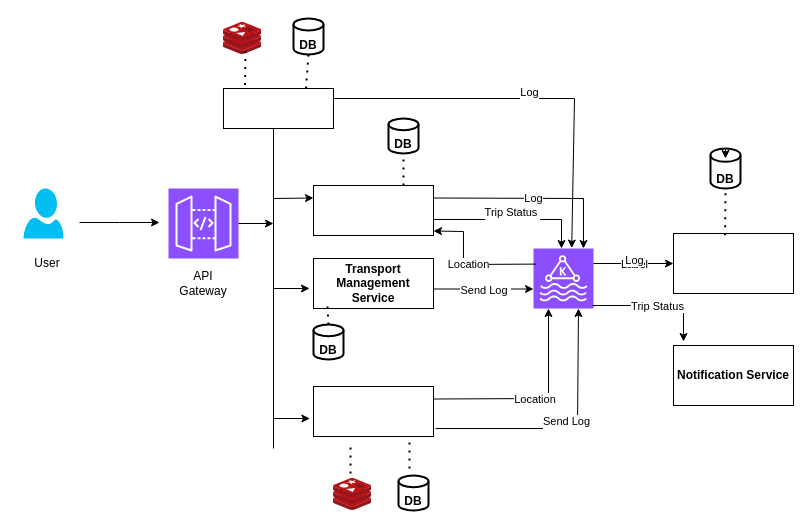
Some shapes in this 811 by 528 pixel diagram are drawn without their labels. The shapes that lost their labels are listed below. From the top down, each one's centre as x and y in pixels, then its label:
(x=278, y=108): User Management Service
(x=373, y=210): Trip Management Service
(x=733, y=263): Logging and Monitoring Serivce
(x=373, y=411): Real-Time Tracking Service
